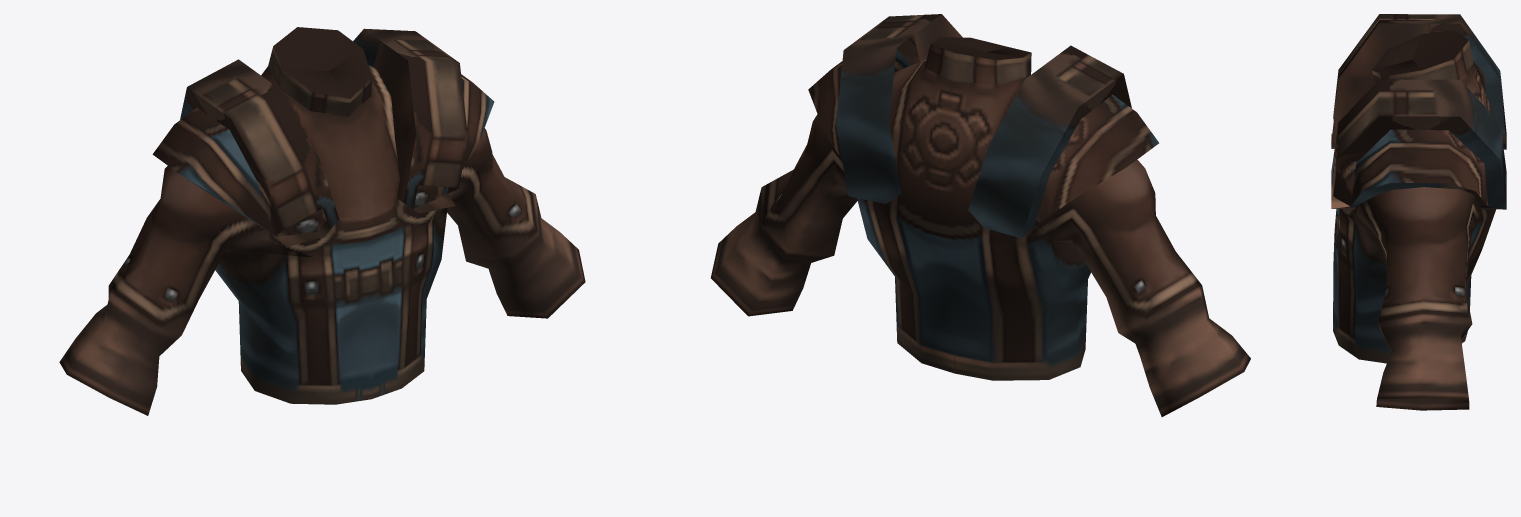
File: hum_ponya_01_09dc4978.glb
3 renders of one model, left to right at view 1: azimuth 30°, elevation 25°; view 2: azimuth 150°, elevation 25°; view 3: azimuth 270°, elevation 25°, orthographic. The views are drawn at different scales.
Bounding box in the file's own units: 1.56 × 0.9916 × 0.4277.
Materials: 1 (1 with a texture image).
